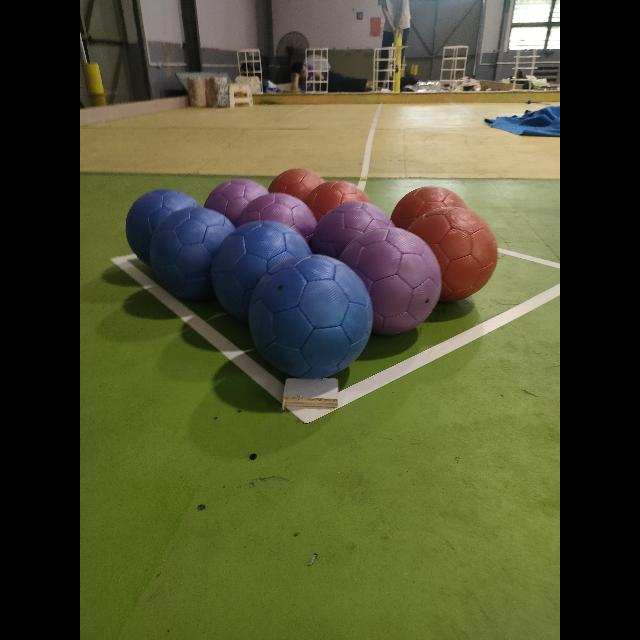B: (249, 255, 373, 378), (219, 219, 311, 321), (150, 206, 234, 300), (121, 190, 202, 276)
P: (341, 227, 442, 335), (316, 202, 390, 282), (236, 193, 316, 243)
R: (408, 208, 498, 300), (304, 180, 370, 222)
S: (370, 44, 402, 100), (300, 48, 334, 100), (234, 48, 266, 100), (438, 44, 470, 94), (512, 40, 532, 90)
